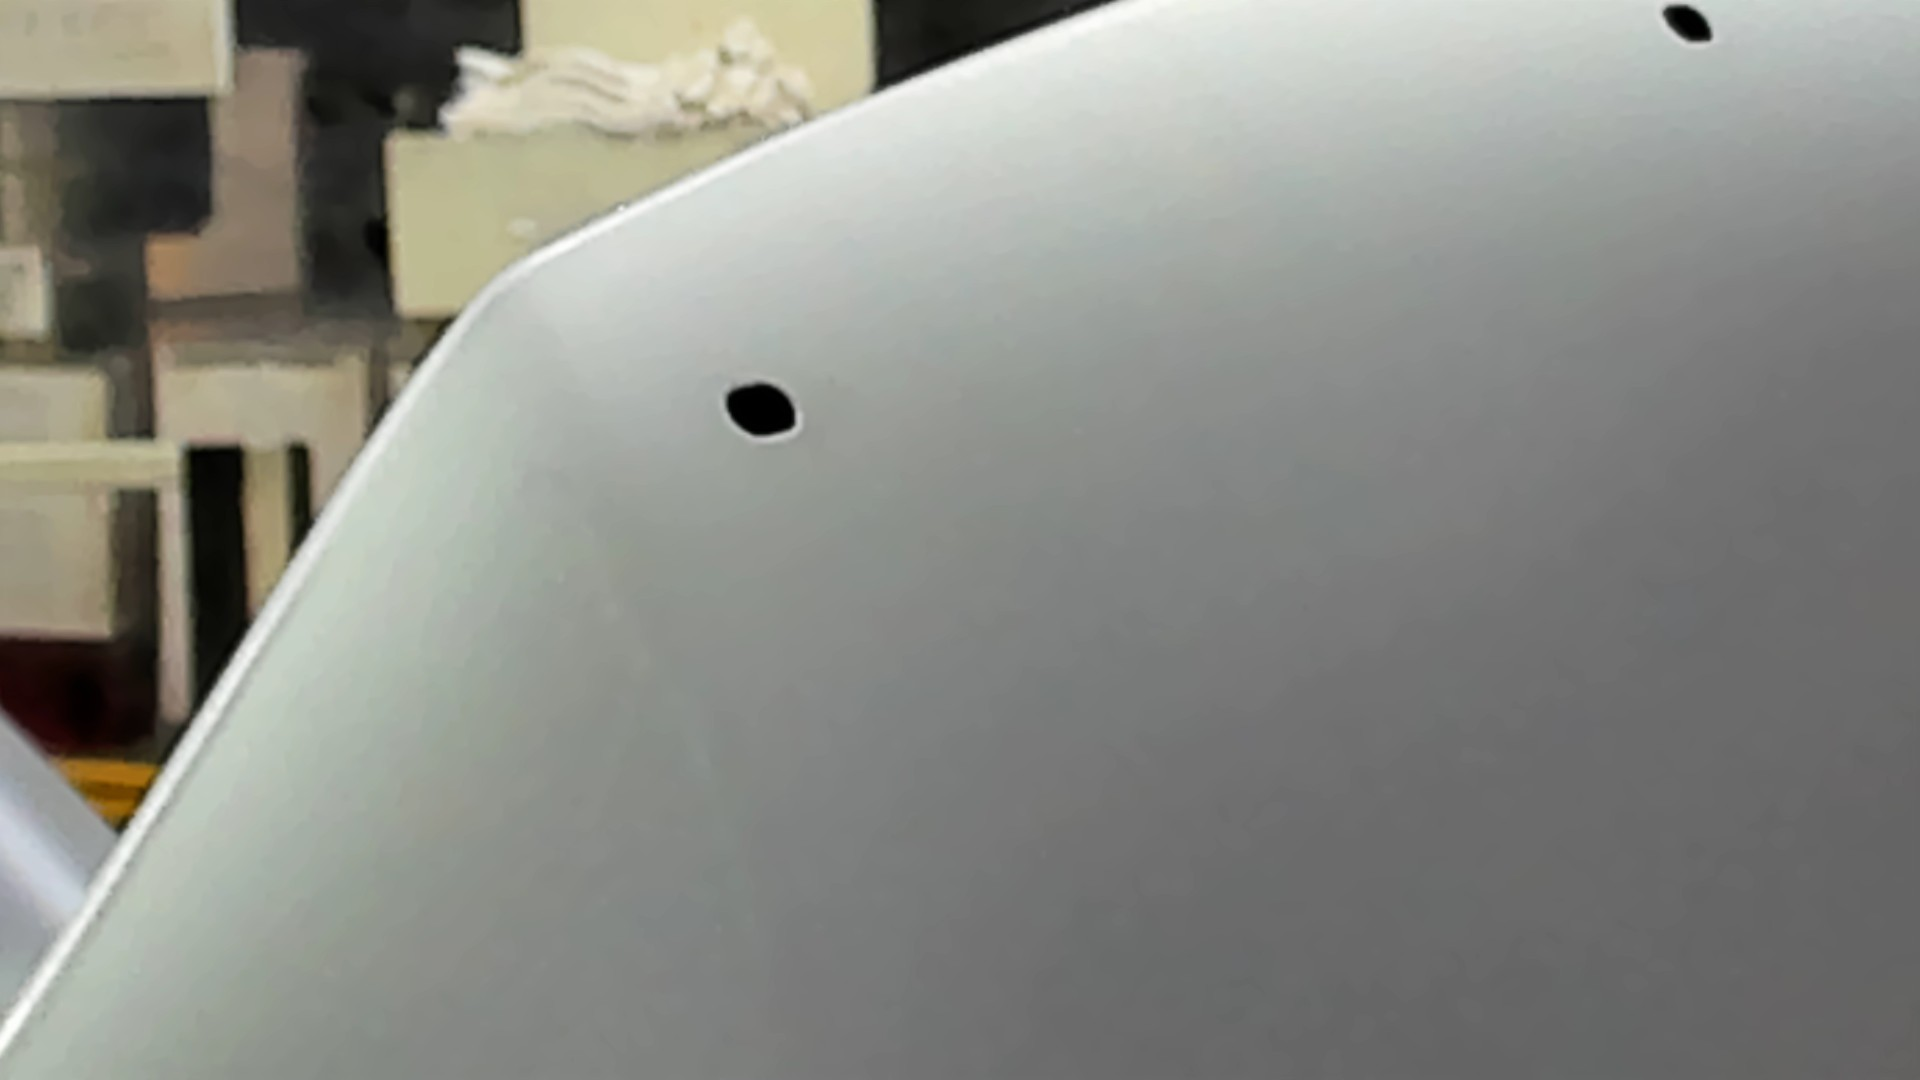amorfo: (719, 382, 804, 442), (1656, 1, 1716, 49)
